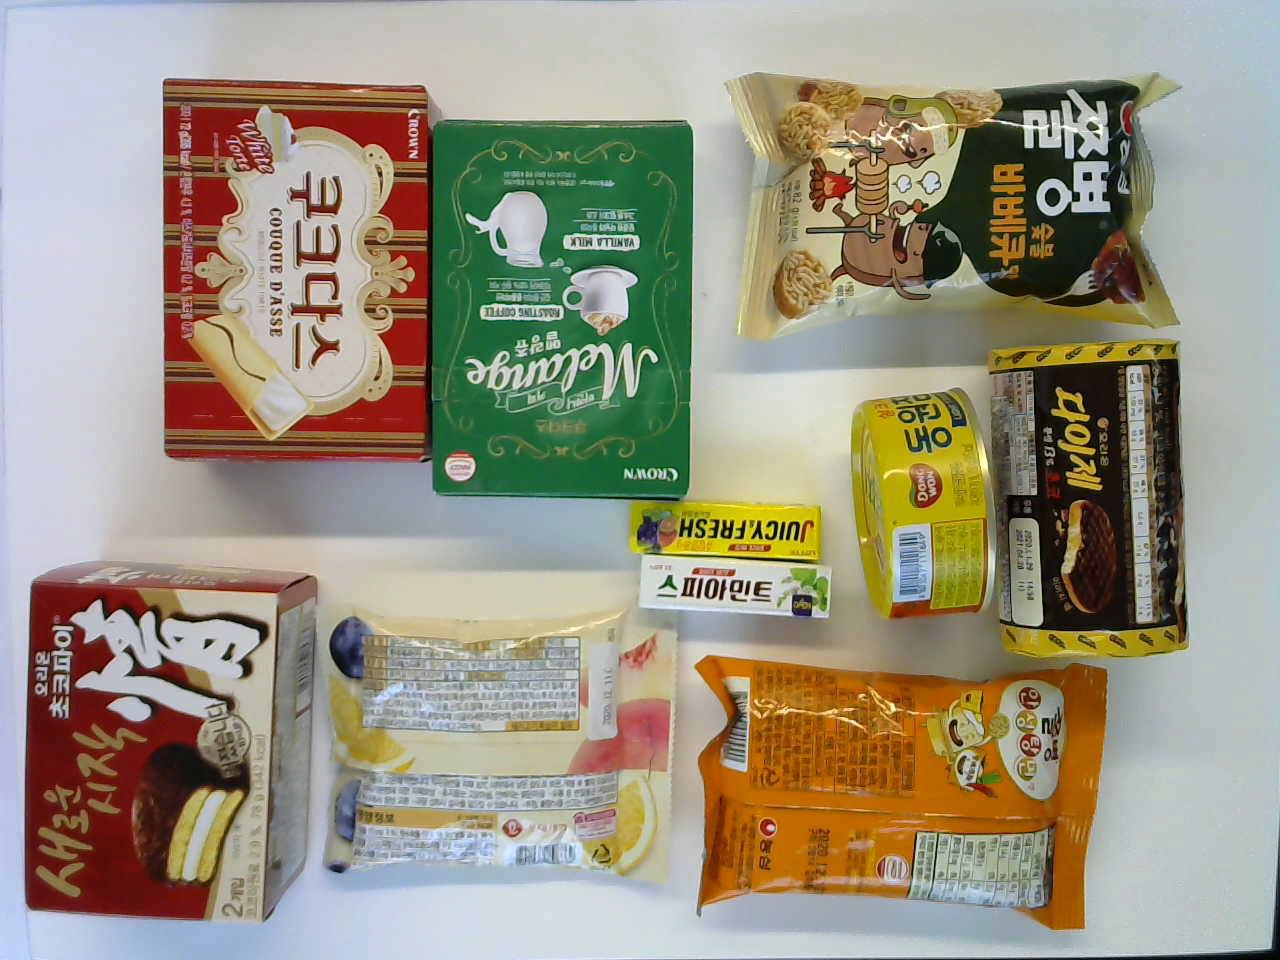chocopie: (24, 560, 310, 920)
couque_coffee: (429, 116, 700, 496)
couque_white: (146, 74, 429, 466), (24, 560, 310, 920)
diget_choco: (978, 336, 1189, 664)
gumi_gumi: (24, 560, 310, 920), (315, 600, 673, 884)
jjolbyung_noodle: (696, 646, 1110, 938)
jjolbyung_ori: (717, 61, 1191, 347)
juicyfresh: (617, 495, 823, 563)
spearmint: (632, 556, 831, 628)
tuna: (838, 383, 995, 619)
